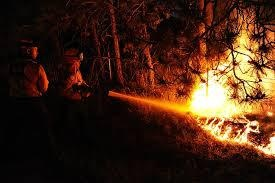fire: (187, 25, 274, 148)
